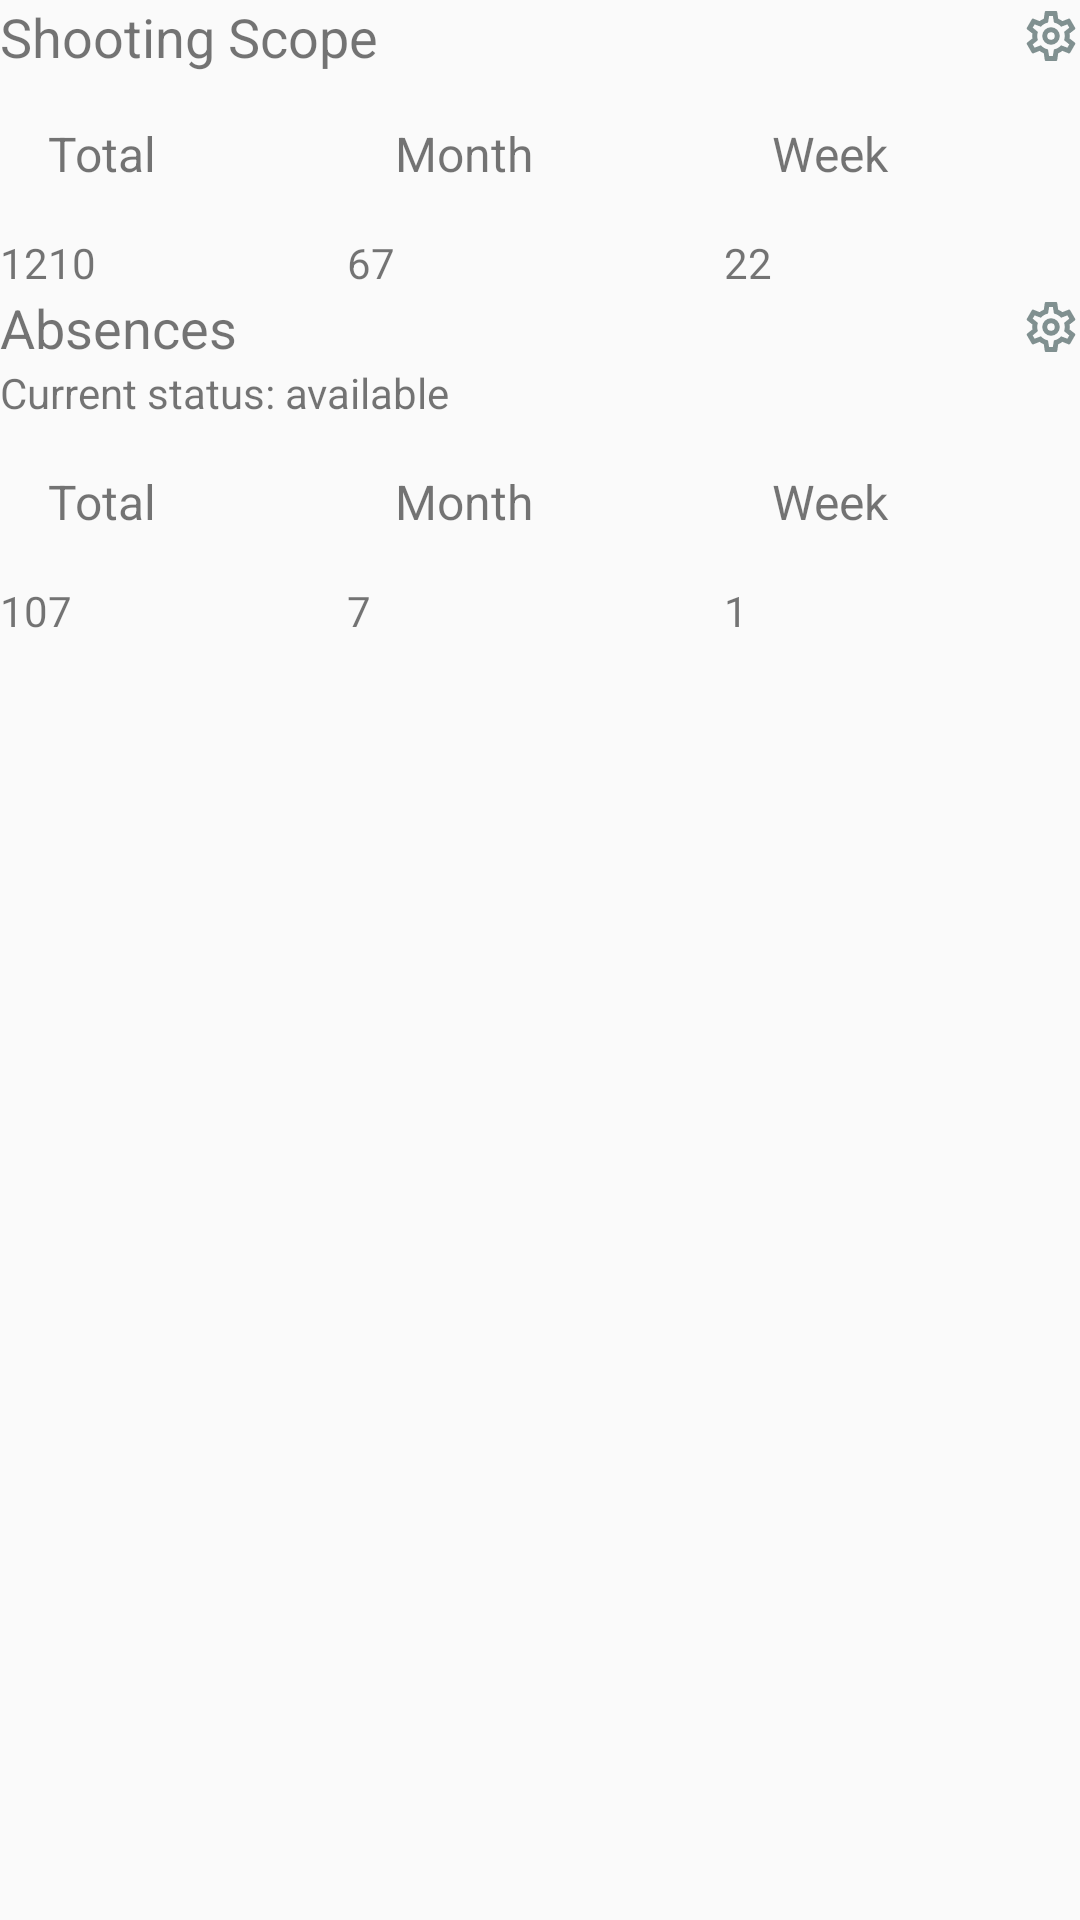

Named icons in this screenshot (1080*1920) and their centers, [x,y]:
settings: [1051,36], [1051,327]
